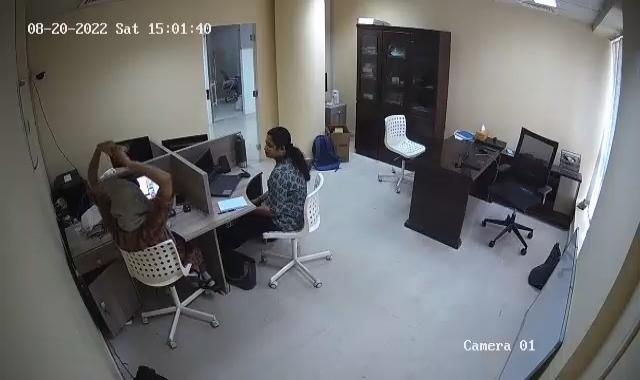no_hairnet: (106, 170, 144, 218), (262, 126, 293, 164)
